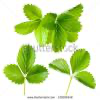Strawberry leaf: (15, 42, 38, 74), (70, 47, 90, 72), (57, 13, 82, 33), (26, 64, 49, 85), (3, 62, 24, 85), (14, 20, 41, 36), (33, 22, 49, 48), (22, 3, 42, 22), (74, 69, 95, 87), (49, 59, 70, 76), (52, 28, 66, 51), (39, 13, 57, 29)
